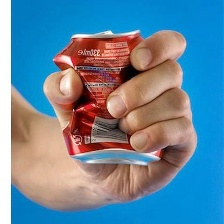can: (48, 22, 167, 171)
